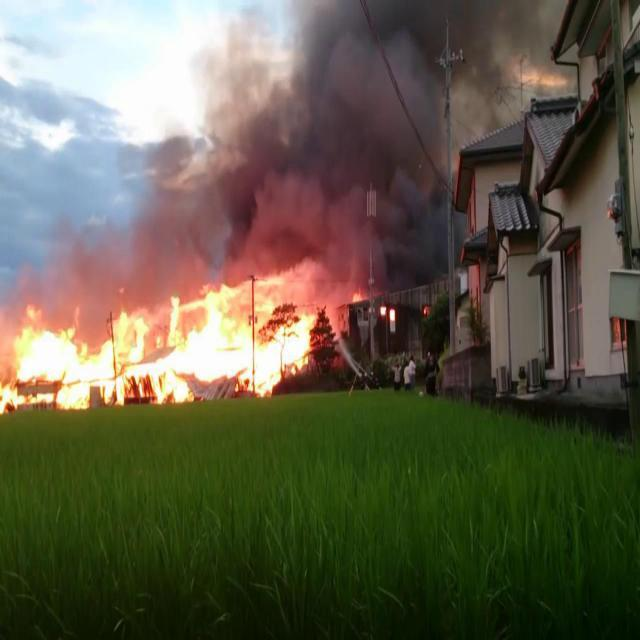Fire: (422, 303, 430, 315)
